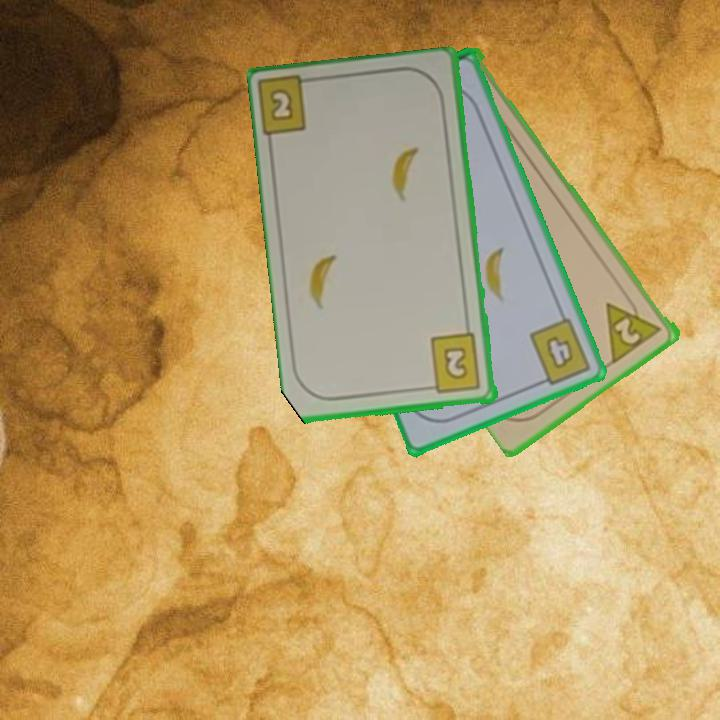2b: (257, 74, 322, 141), (423, 331, 484, 396)
2p: (602, 289, 667, 366)
4b: (526, 314, 595, 390)
